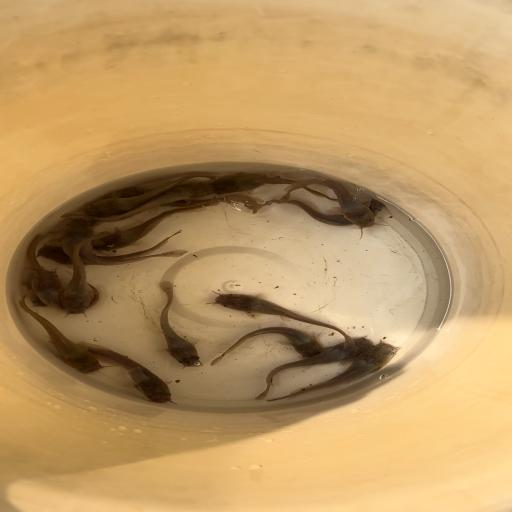lele: (208, 290, 356, 349), (247, 335, 376, 402), (266, 341, 399, 403), (92, 196, 219, 252), (10, 296, 102, 372), (80, 172, 223, 217), (63, 218, 188, 268), (60, 182, 216, 222), (78, 340, 175, 404), (35, 229, 185, 266), (278, 176, 376, 229), (209, 325, 325, 366), (111, 184, 262, 215), (56, 232, 111, 317), (151, 280, 204, 366), (206, 171, 340, 204), (255, 196, 389, 226), (28, 270, 102, 312), (21, 229, 55, 307)
